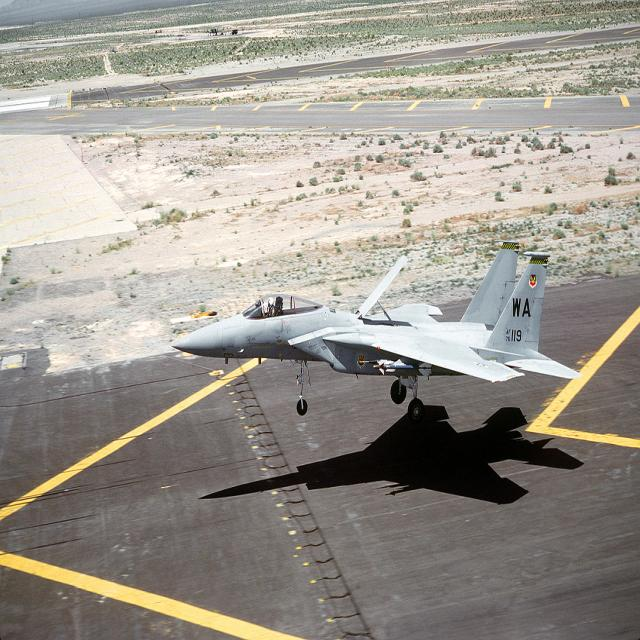MIL_Plane: (170, 240, 582, 424)
